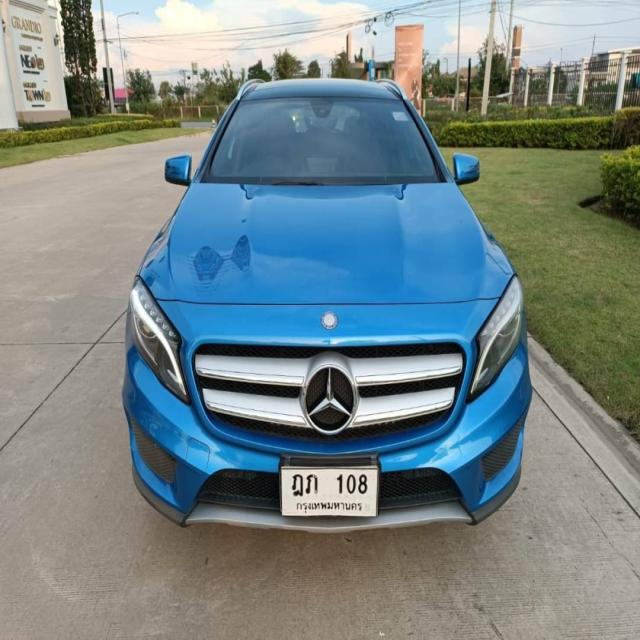license_plate: (277, 454, 379, 524)
